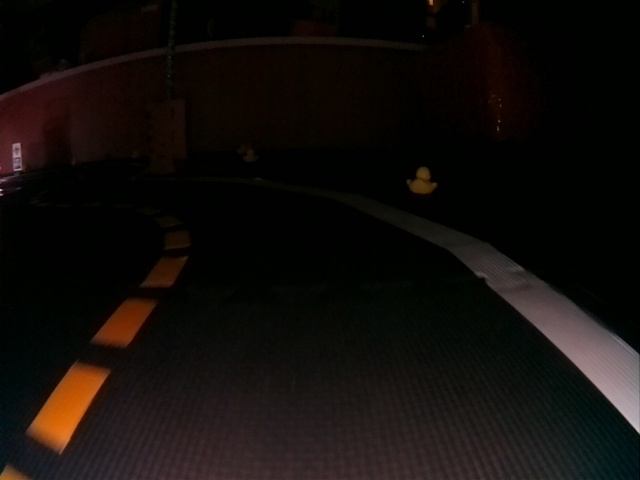Duckie: (407, 168, 437, 194), (247, 149, 254, 159), (239, 144, 247, 152), (135, 151, 141, 158)
